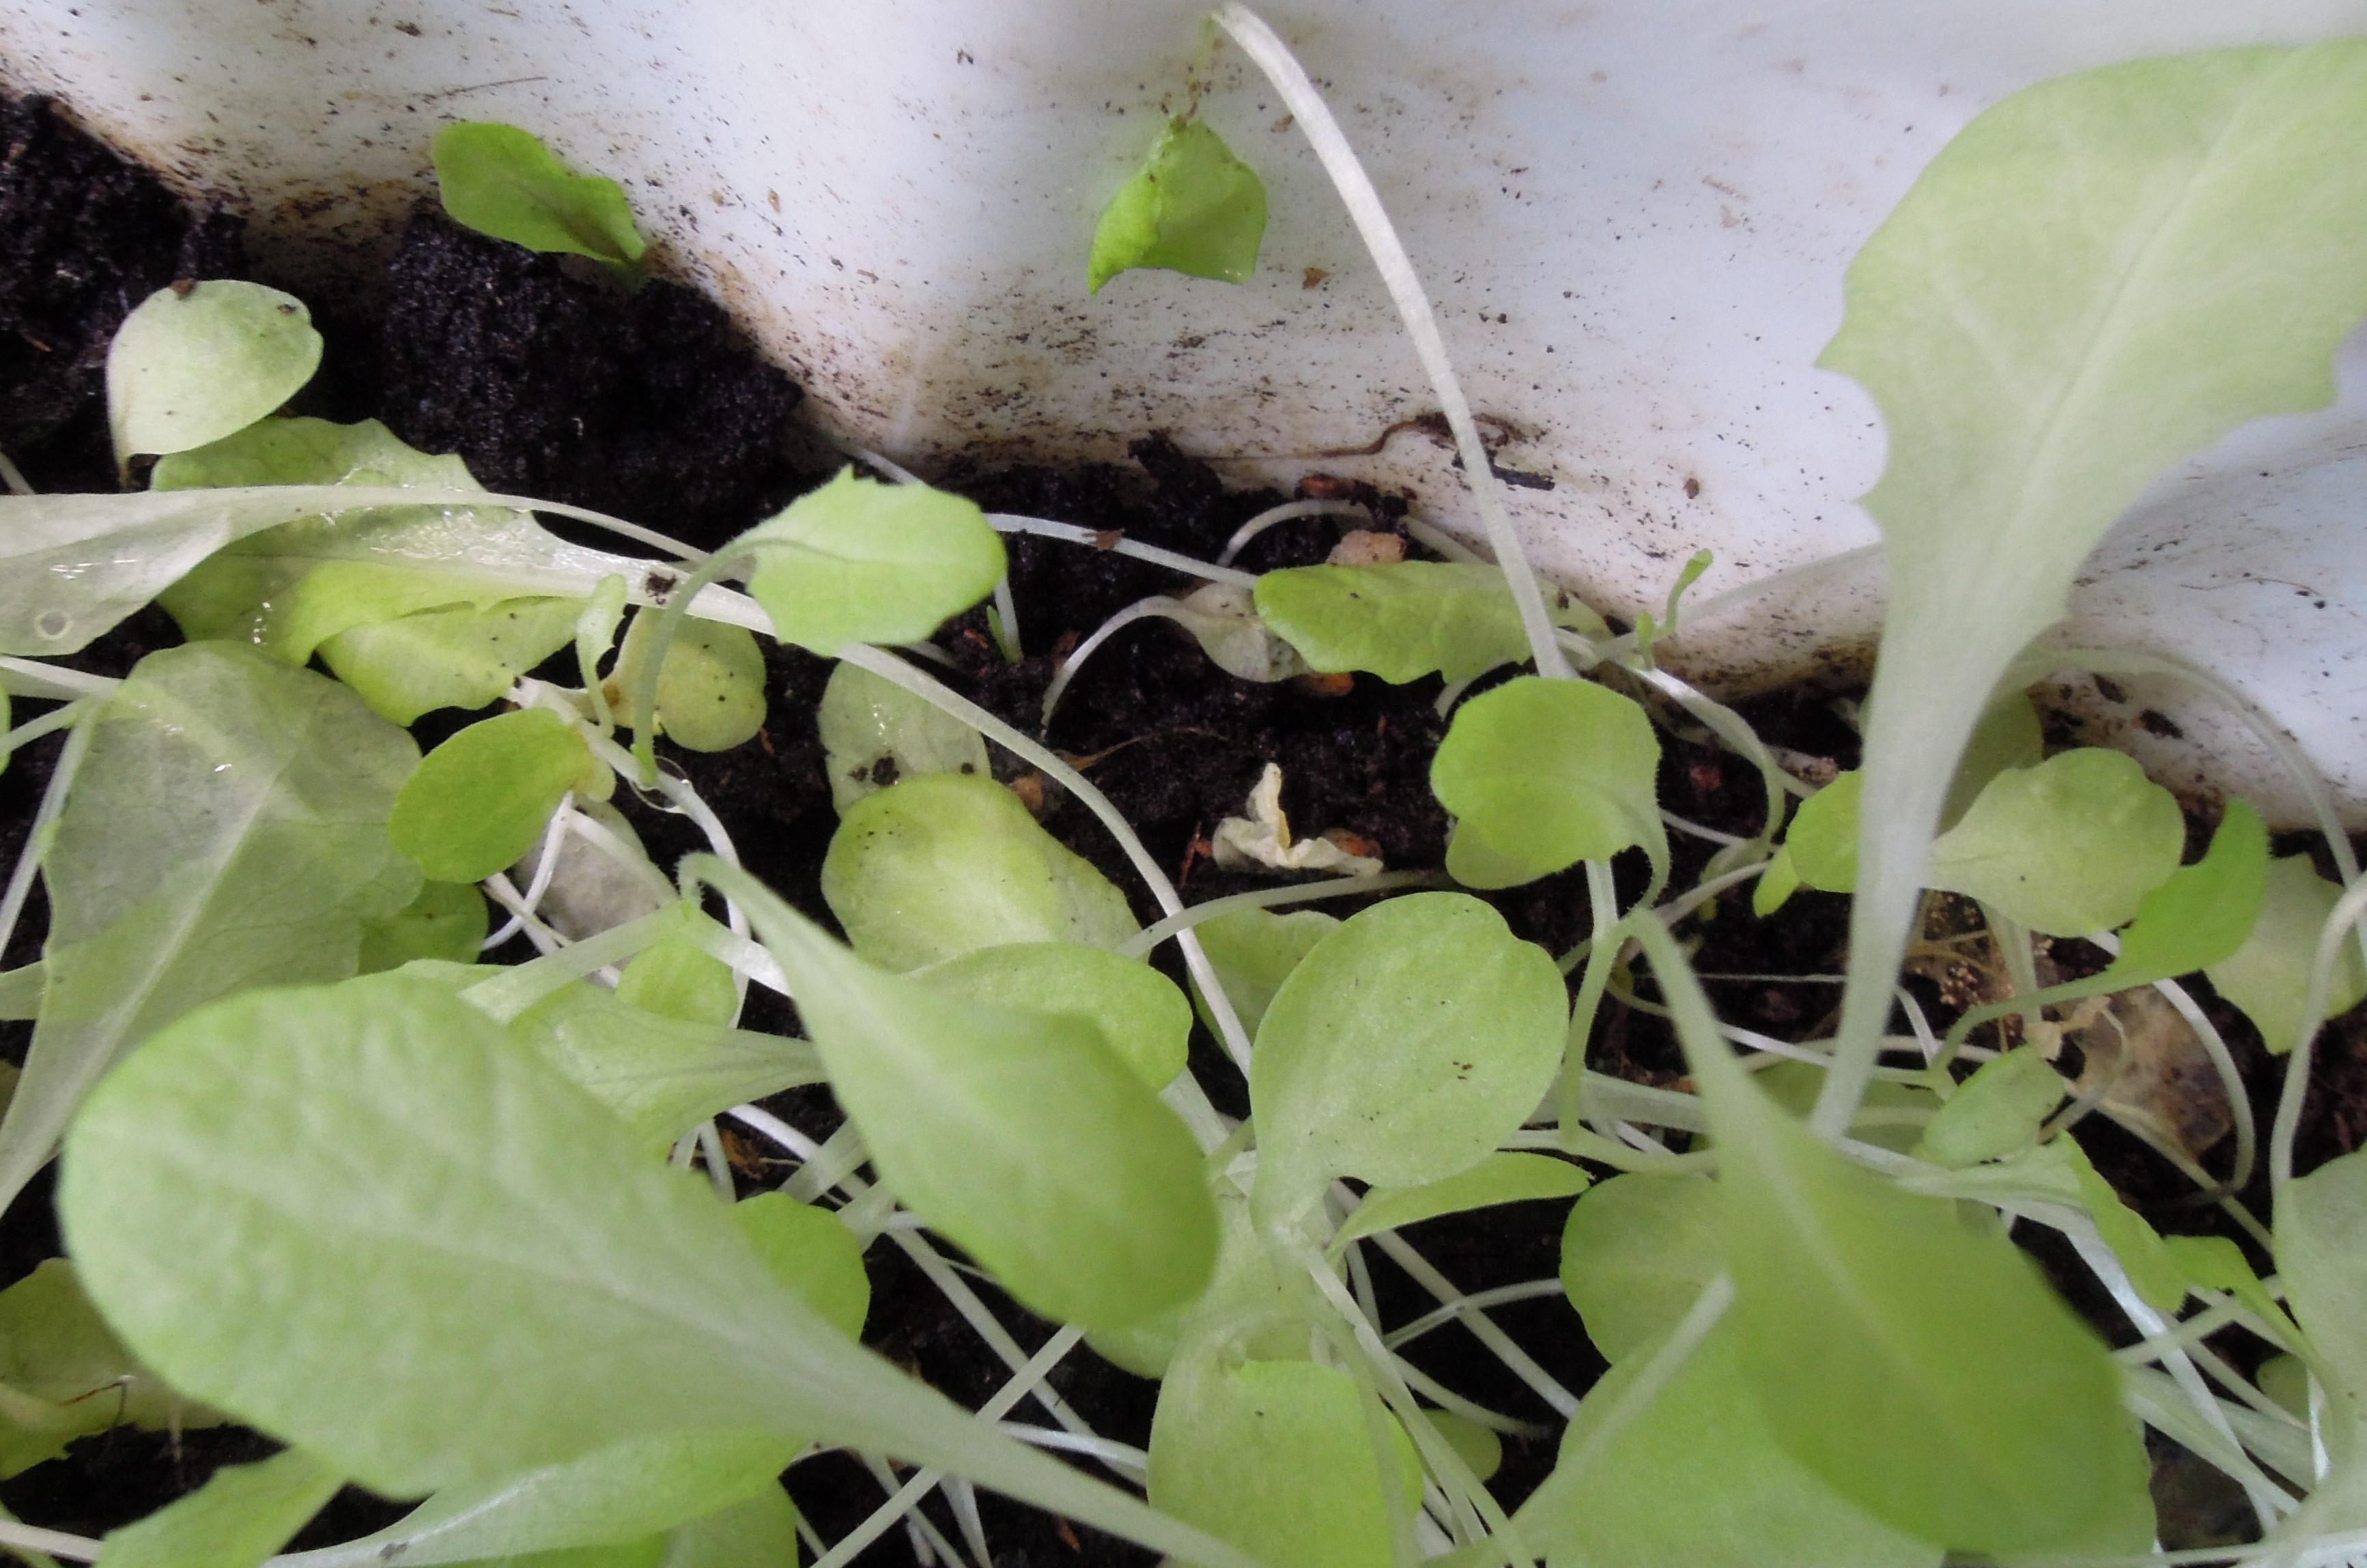weeek6: (42, 24, 2343, 1568)
